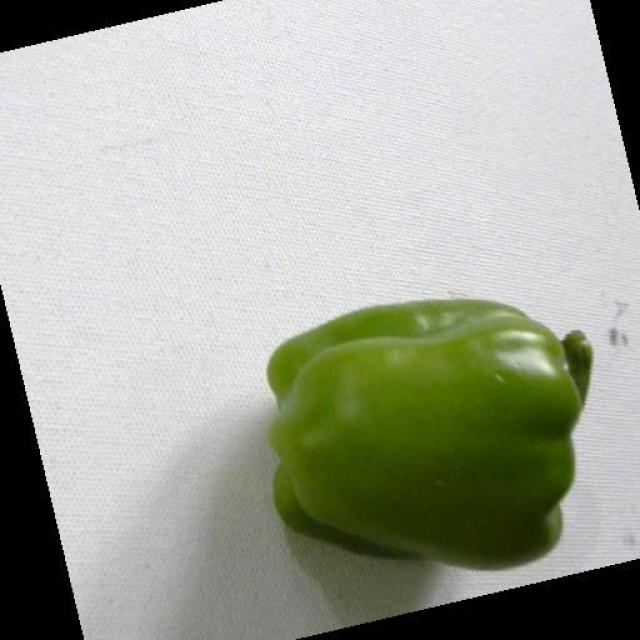Fresh_Capsicum: (243, 276, 603, 590)
